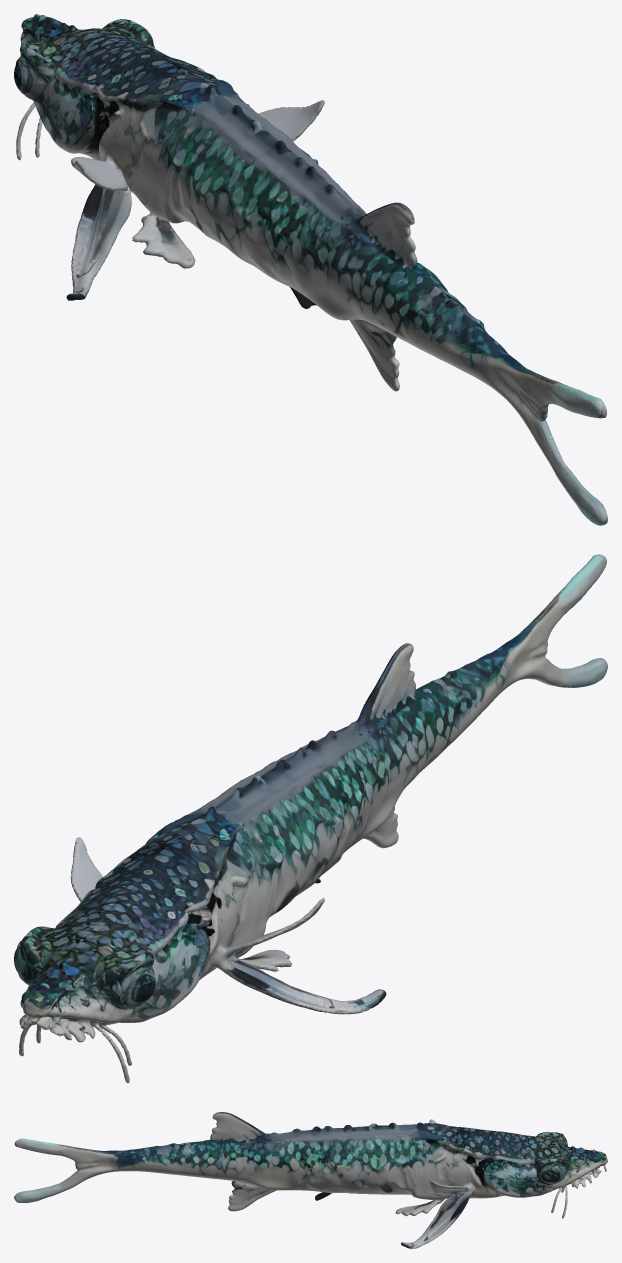
The model's file is fish_bloom_dragon.glb.
3 views of the same model, one above another, from view 1: azimuth 30°, elevation 25°; view 2: azimuth 150°, elevation 25°; view 3: azimuth 270°, elevation 25° (orthographic). The views are drawn at different scales.
Parts seen in each view (by area): view 1: tripo_node_d41b703c-c474-40db-bf82-fc2999f104ca; view 2: tripo_node_d41b703c-c474-40db-bf82-fc2999f104ca; view 3: tripo_node_d41b703c-c474-40db-bf82-fc2999f104ca.
Boxes of the visible parts, <box> form: tripo_node_d41b703c-c474-40db-bf82-fc2999f104ca: <box>14,14,607,525</box>; tripo_node_d41b703c-c474-40db-bf82-fc2999f104ca: <box>14,554,607,1083</box>; tripo_node_d41b703c-c474-40db-bf82-fc2999f104ca: <box>14,1112,607,1248</box>.
Bounding box in the file's own units: 0.3173 × 0.1872 × 1.
Materials: 1 (1 with a texture image).
